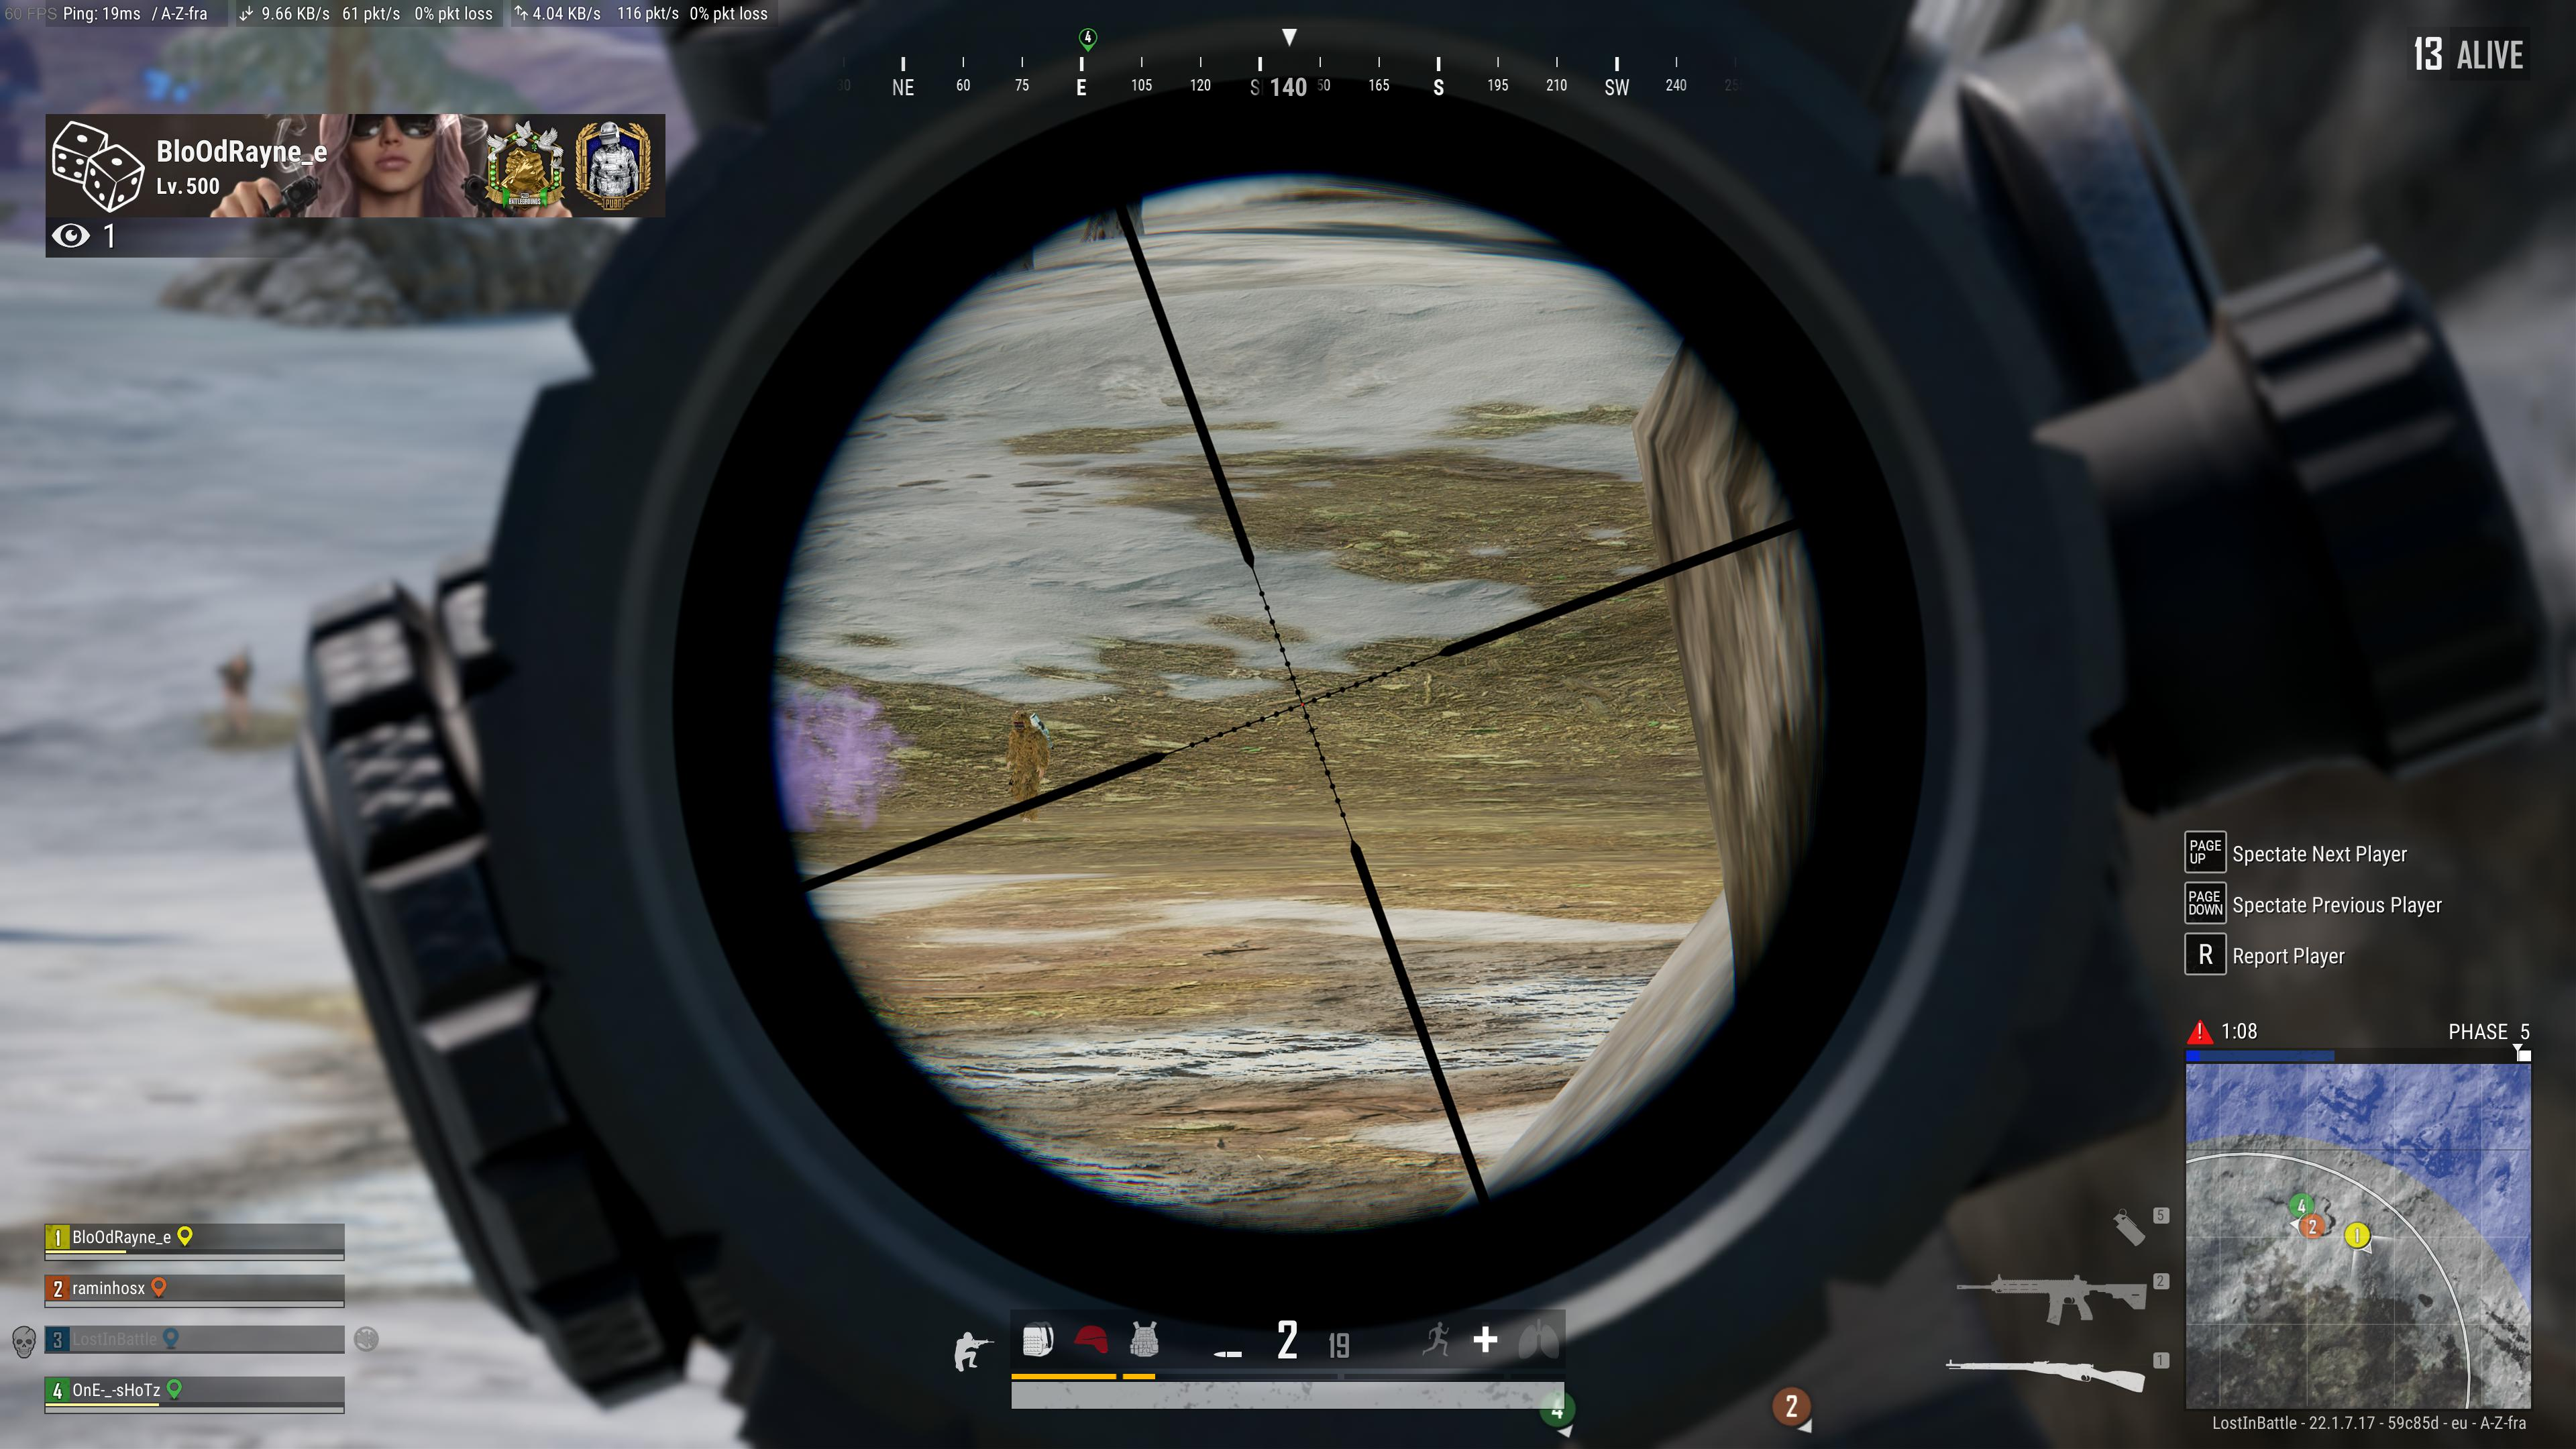enemy: (1005, 708, 1051, 821)
enemy_head: (1010, 708, 1030, 732)
